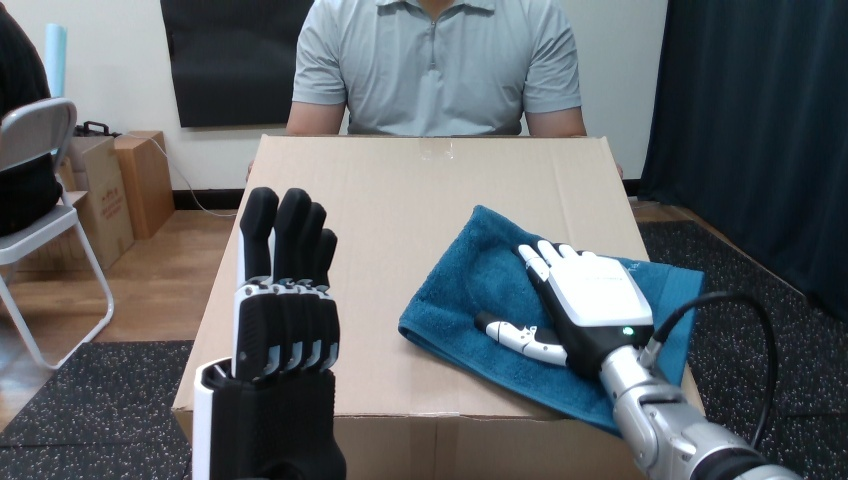left robot hand: (474, 239, 801, 479), (193, 187, 345, 478), (656, 300, 768, 444)
